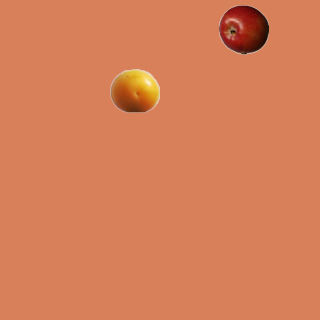Apple Braeburn: (218, 4, 268, 54)
Cherry Wax Yellow: (109, 65, 159, 115)
